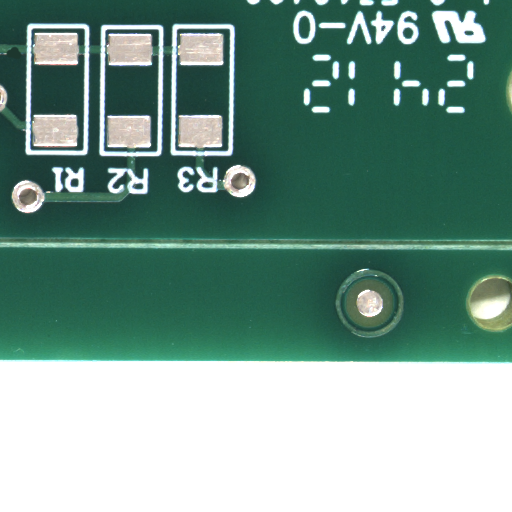Mouse_bite: (14, 52, 29, 64)
